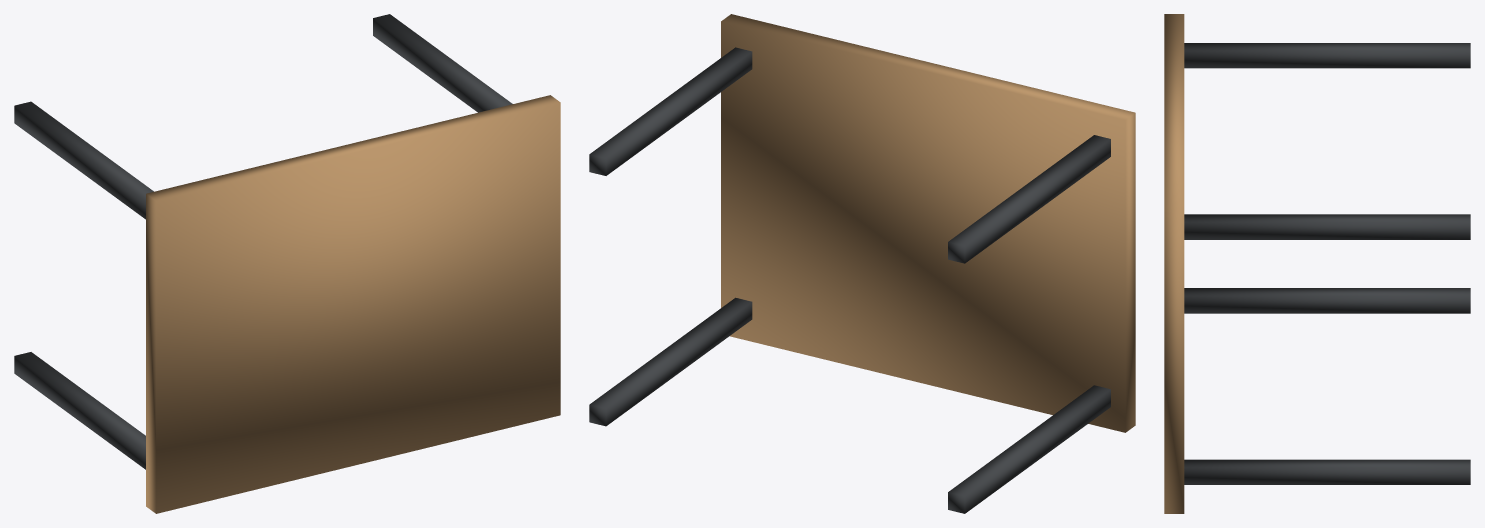
The model's file is table.glb.
The picture shows the model from 3 angles, left to right: view 1: azimuth 30°, elevation 25°; view 2: azimuth 150°, elevation 25°; view 3: azimuth 270°, elevation 25°; orthographic projection. The views are drawn at different scales.
Visible parts, largest first — view 1: table_top, table_leg_3, table_leg_1, table_leg_4; view 2: table_top, table_leg_4, table_leg_2, table_leg_1, table_leg_3; view 3: table_top, table_leg_1, table_leg_2, table_leg_3, table_leg_4.
Boxes of the visible parts, box(x1,y1,x2,y2) form: table_top: box(146, 95, 560, 513); table_leg_3: box(14, 101, 153, 219); table_leg_1: box(14, 352, 145, 469); table_leg_4: box(373, 14, 512, 112); table_top: box(721, 14, 1135, 432); table_leg_4: box(589, 47, 752, 175); table_leg_2: box(589, 297, 752, 426); table_leg_1: box(948, 385, 1110, 513); table_leg_3: box(948, 135, 1110, 263); table_top: box(1164, 14, 1184, 513); table_leg_1: box(1184, 288, 1470, 313); table_leg_2: box(1184, 459, 1470, 484); table_leg_3: box(1184, 43, 1470, 68); table_leg_4: box(1184, 214, 1470, 239).
Size of the model in its own units: 1.15 by 0.85 by 0.77.
